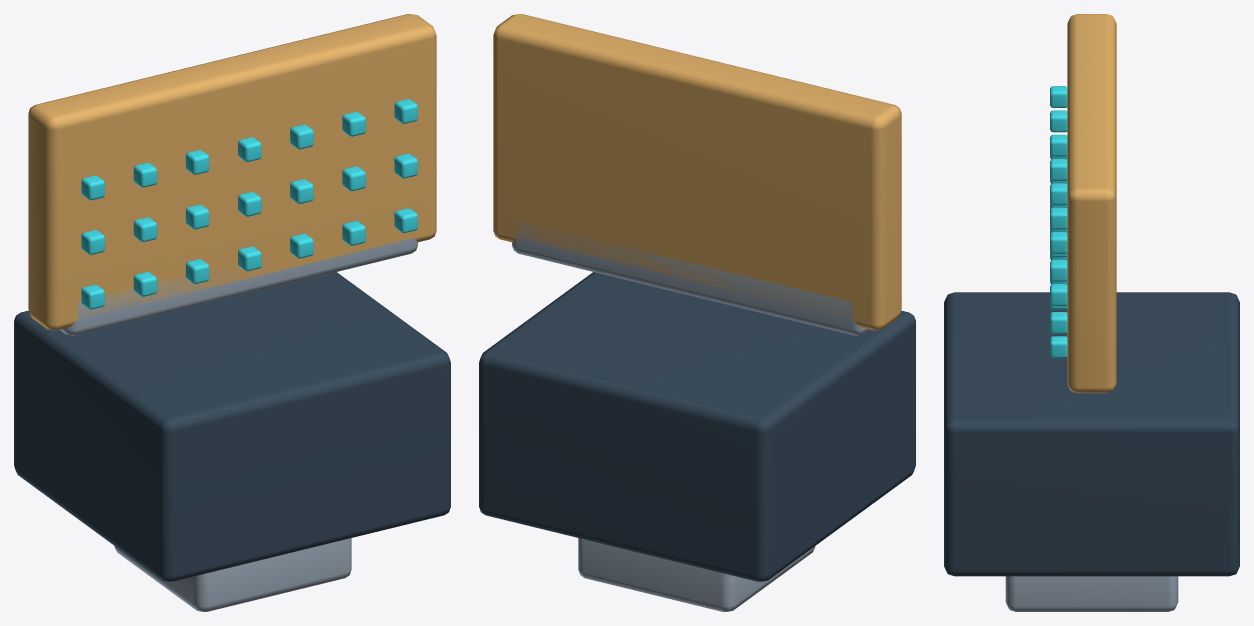
Rendered from radar_instrument.glb.
3 views of the same model, side by side, from view 1: azimuth 30°, elevation 25°; view 2: azimuth 150°, elevation 25°; view 3: azimuth 270°, elevation 25° (orthographic). The views are drawn at different scales.
Visible parts, largest first — view 1: Radar_Electronics, Radar_Antenna_Panel, Radar_Antenna_Frame, Mounting_Flange; view 2: Radar_Electronics, Radar_Antenna_Panel, Radar_Antenna_Frame, Mounting_Flange; view 3: Radar_Electronics, Radar_Antenna_Panel, Mounting_Flange, Radar_Element_005, Radar_Element_008, Radar_Element_014, Radar_Element_017.
Part boxes in pixels (x1,y1,x2,y2): Radar_Electronics: (14,272,450,581); Radar_Antenna_Panel: (28,14,436,330); Radar_Antenna_Frame: (60,238,417,335); Mounting_Flange: (114,538,351,611); Radar_Electronics: (479,272,915,581); Radar_Antenna_Panel: (493,14,901,330); Radar_Antenna_Frame: (512,220,869,335); Mounting_Flange: (578,538,815,611); Radar_Electronics: (944,292,1239,576); Radar_Antenna_Panel: (1067,14,1116,392); Mounting_Flange: (1005,576,1178,611); Radar_Element_005: (1050,110,1067,132); Radar_Element_008: (1050,134,1067,156); Radar_Element_014: (1050,183,1067,205); Radar_Element_017: (1050,207,1067,229).
Bounding box in the file's own units: 1.05 × 1.28 × 0.72.
